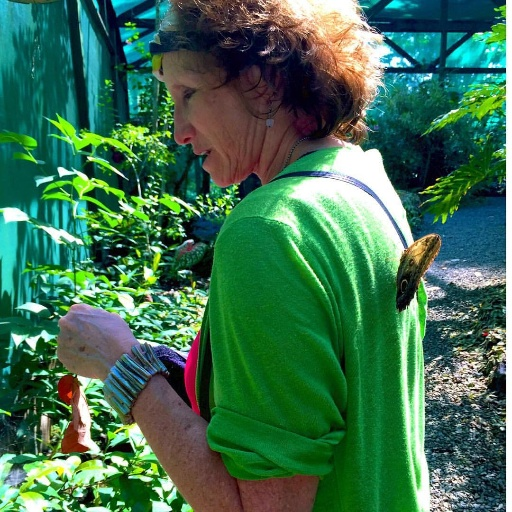hand: (49, 301, 150, 400)
